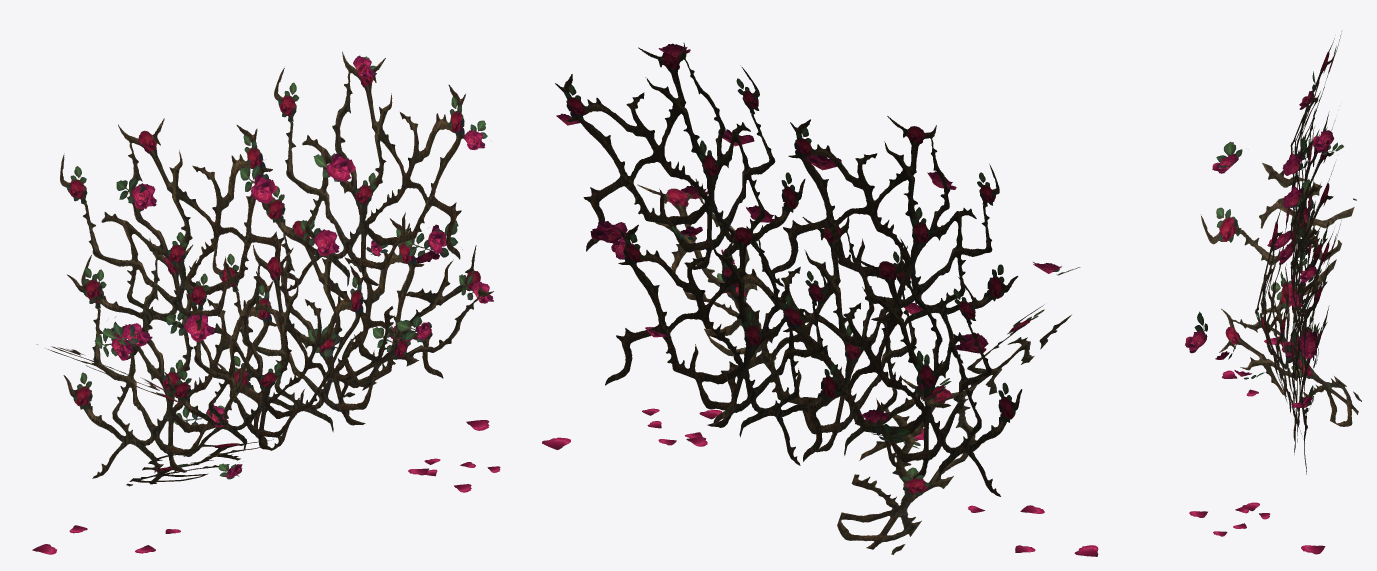
The model's file is yw_anxizhidi_qiangwei.FBX.
3 renders of one model, left to right at view 1: azimuth 30°, elevation 25°; view 2: azimuth 150°, elevation 25°; view 3: azimuth 270°, elevation 25°, orthographic. The views are drawn at different scales.
Visible parts, largest first — view 1: yw_anxizhidi_qiangwei; view 2: yw_anxizhidi_qiangwei; view 3: yw_anxizhidi_qiangwei.
Boxes of the visible parts, <box> form: yw_anxizhidi_qiangwei: <box>32,51,500,554</box>; yw_anxizhidi_qiangwei: <box>542,43,1098,556</box>; yw_anxizhidi_qiangwei: <box>1185,30,1361,554</box>.
Bounding box in the file's own units: 345 × 285 × 141.
